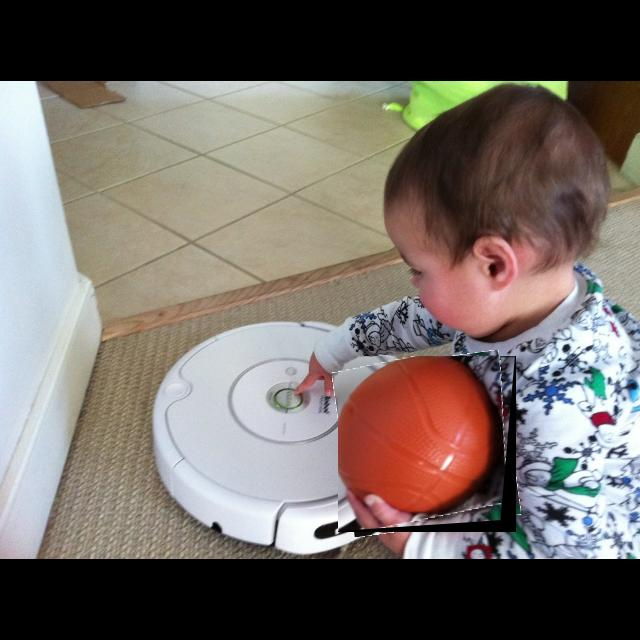Football: (338, 356, 516, 532)
